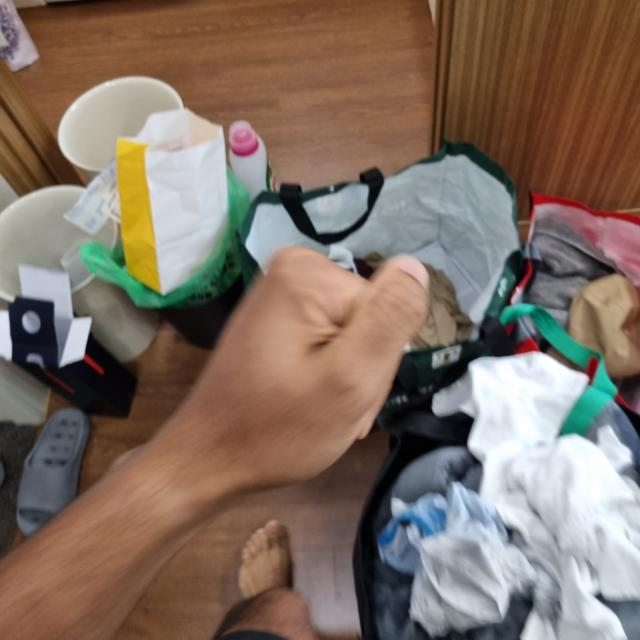Rock: (176, 247, 432, 480)
